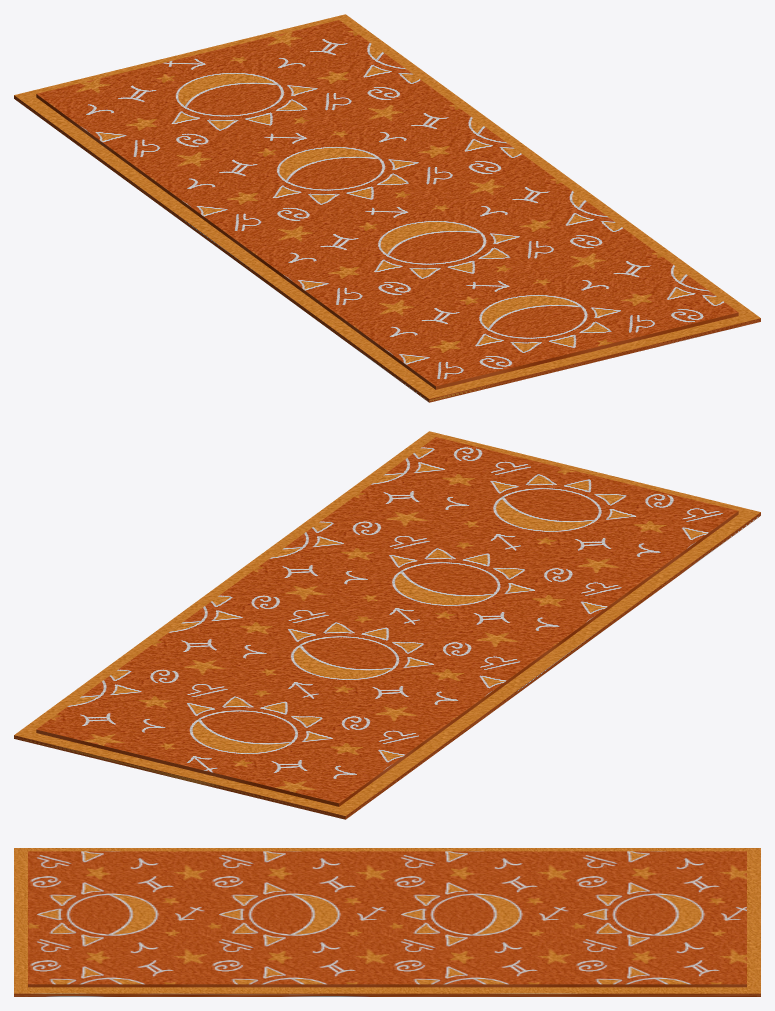
File: Towel.fbx
3 views of the same model, one above another, from view 1: azimuth 30°, elevation 25°; view 2: azimuth 150°, elevation 25°; view 3: azimuth 270°, elevation 25° (orthographic). The views are drawn at different scales.
Visible parts, largest first — view 1: Cube.009; view 2: Cube.009; view 3: Cube.009.
Boxes of the visible parts, x1,y1,x2,y2 form: Cube.009: (14, 14, 760, 402); Cube.009: (14, 431, 760, 819); Cube.009: (14, 848, 760, 996).
Size of the model in its own units: 786 by 16.05 by 1705.
